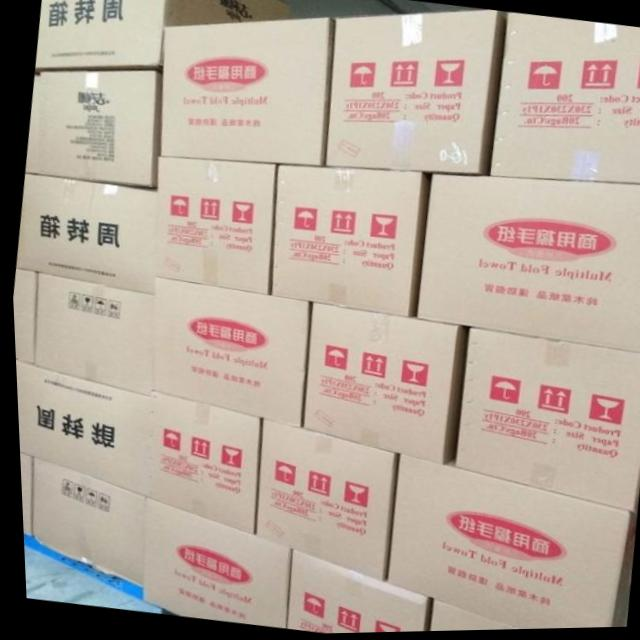box: (380, 456, 631, 631), (413, 176, 640, 358), (450, 330, 640, 517), (322, 12, 508, 178), (299, 301, 464, 467), (157, 18, 337, 168), (487, 15, 640, 187), (267, 165, 431, 319), (146, 278, 307, 429), (251, 419, 394, 585), (136, 498, 287, 629), (13, 358, 146, 500), (34, 0, 291, 71), (14, 173, 155, 297), (152, 157, 276, 296), (23, 69, 160, 190), (145, 394, 258, 536), (26, 458, 144, 590), (31, 273, 152, 396), (280, 551, 427, 635), (422, 600, 515, 633), (10, 267, 35, 366), (16, 451, 30, 538)
